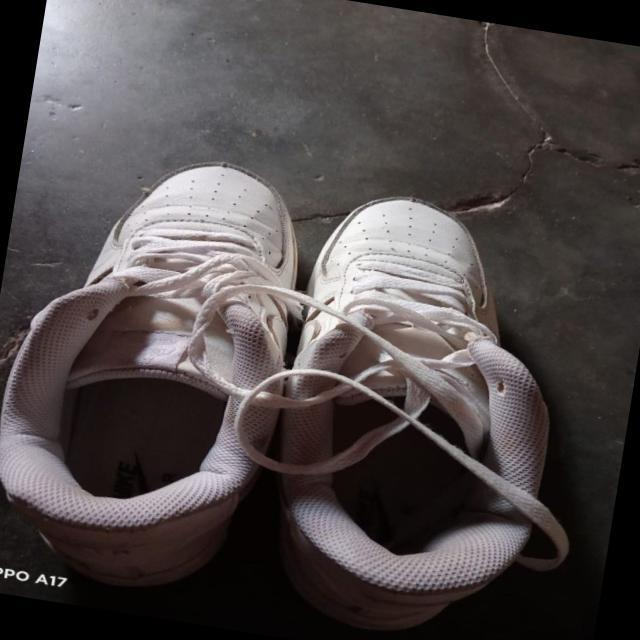nike fake air force: (0, 131, 333, 610), (251, 178, 589, 640)
